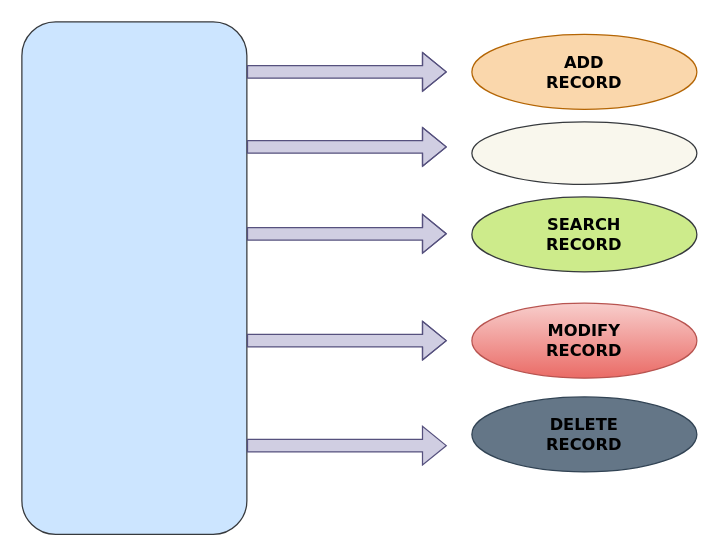
Some shapes in this 719 by 556 pixel diagram are drawn without their labels. The box of each missing label's shape, as (x1, y1, x2, y2) in pixels:
STUDENT RECORD MANAGEMENT SYSTEM: (21, 21, 247, 534)
VIEW RECORD: (471, 121, 697, 184)
